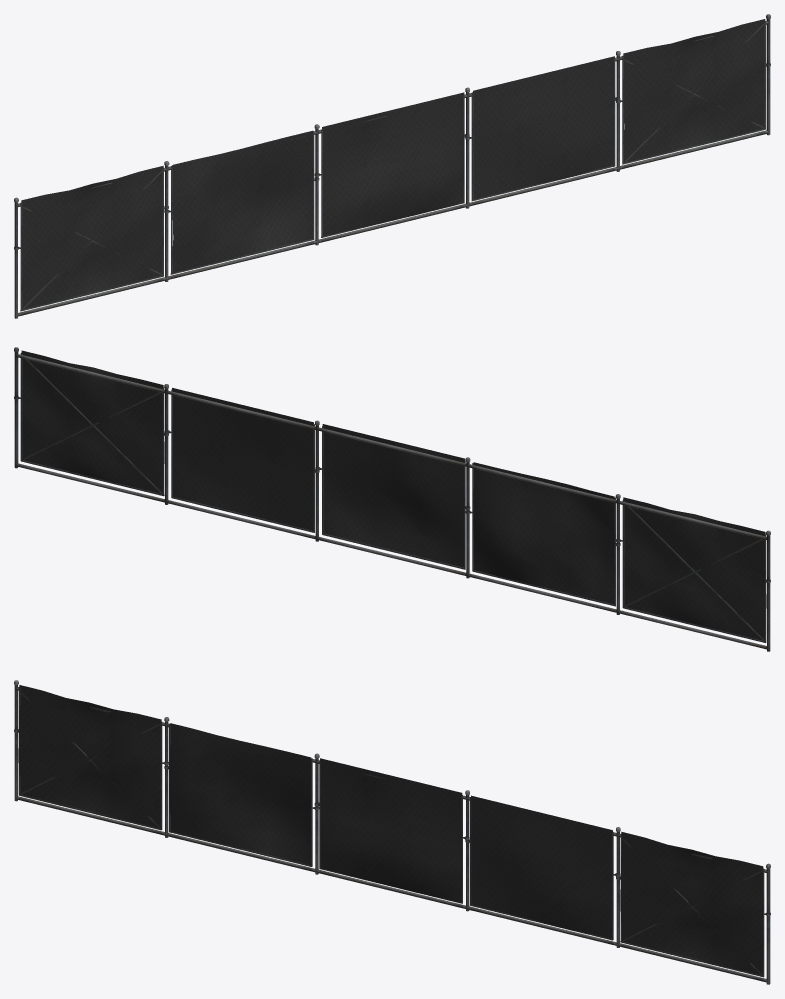
Rendered from chainlink_group-1.FBX.
The picture shows the model from 3 angles, top to bottom: view 1: azimuth 30°, elevation 25°; view 2: azimuth 150°, elevation 25°; view 3: azimuth 330°, elevation 25°; orthographic projection.
Visible parts, largest first — view 1: chainlink_group-1_LOD0; view 2: chainlink_group-1_LOD0; view 3: chainlink_group-1_LOD0.
Boxes of the visible parts, bbox=[...] form: chainlink_group-1_LOD0: bbox=[14, 14, 770, 318]; chainlink_group-1_LOD0: bbox=[14, 347, 770, 651]; chainlink_group-1_LOD0: bbox=[14, 680, 770, 984].
Size of what is drawn, in the model's own units: 547 by 82.86 by 10.37.
